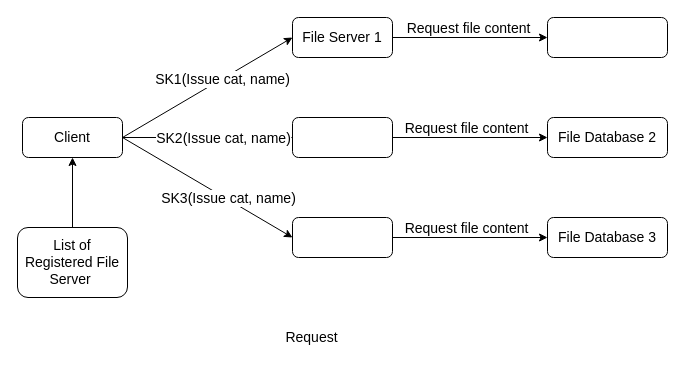
Some shapes in this 685 by 365 pixel diagram are drawn without their labels. The shapes that lost their labels are listed below. From the top down, each one's box as (x1, y1, x2, y2) in pixels, then its label:
(546, 16, 668, 58): File Database 1
(292, 116, 392, 158): File Server 2
(292, 216, 392, 258): File Server 3
